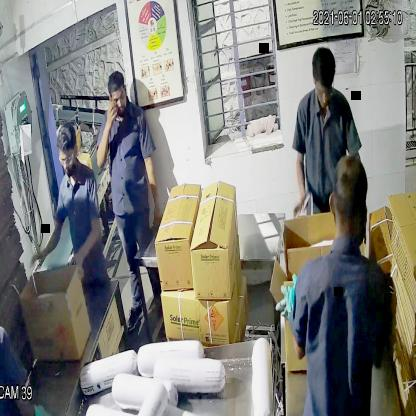goggles: (56, 147, 77, 171)
